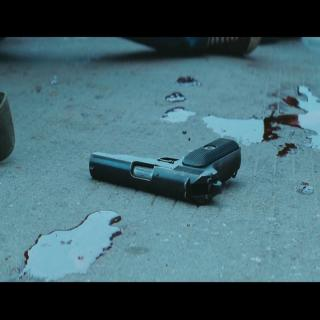gun: (84, 136, 243, 204)
